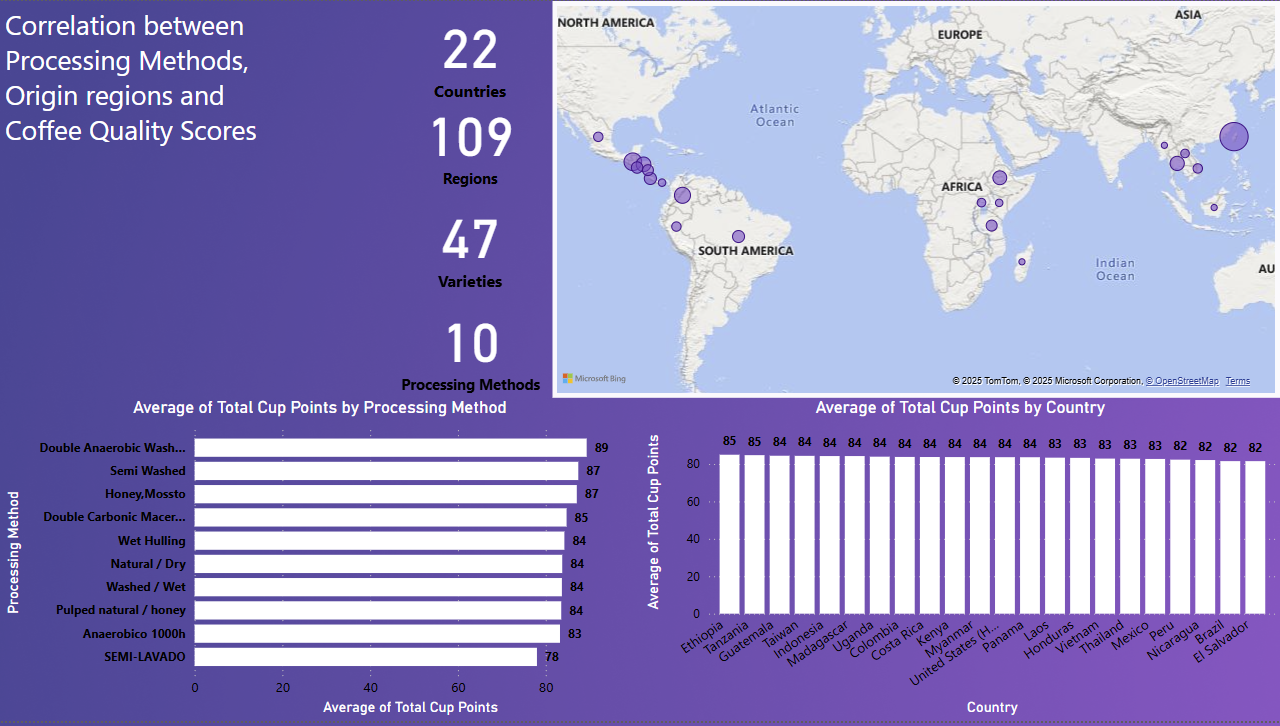

Layout of this report page (visuals, bound fields, positions):
{"tool":"powerbi","page":{"name":"Page 2","canvas":[1280,720],"ordinal":2},"visuals":[{"type":"clusteredColumnChart","fields":{"Category":["Coffee.Country"],"Y":["Avg(Coffee.Total Cup Points)"]},"box":[639.4,396.8,640.6,323.4],"z":0},{"type":"clusteredBarChart","fields":{"Category":["Coffee.Processing Method"],"Y":["Avg(Coffee.Total Cup Points)"]},"box":[0,396.8,639.4,323.4],"z":1000},{"type":"map","fields":{"Category":["Coffee.Country"],"Size":["Sum(Coffee.Total Cup Points)"]},"box":[552.3,0,727.7,396.8],"z":2000},{"type":"textbox","box":[0,0,286,166.7],"z":3000},{"type":"card","fields":{"Values":["Count(Coffee.Country)"]},"box":[390.6,0,160.5,103.2],"z":4000},{"type":"card","fields":{"Values":["Count(Coffee.Processing Method)"]},"box":[390.6,293.6,161.7,103.2],"z":5000},{"type":"card","fields":{"Values":["Count(Coffee.Region)"]},"box":[390.6,87.1,160.5,103.2],"z":6000},{"type":"card","fields":{"Values":["Count(Coffee.Variety)"]},"box":[390.6,190.3,160.5,103.2],"z":7000}]}

Visuals, with their boxes in screenshot pixels (x1, y1, x2, y2), scaled from the page's 1280x720 canvas onto the 1280x726 screenshot:
clusteredColumnChart - Coffee.Country x Avg(Coffee.Total Cup Points): 639/400/1279/725
clusteredBarChart - Coffee.Processing Method x Avg(Coffee.Total Cup Points): 0/400/639/725
map - Coffee.Country x Sum(Coffee.Total Cup Points): 552/0/1279/400
textbox: 0/0/286/168
card - Count(Coffee.Country): 391/0/551/104
card - Count(Coffee.Processing Method): 391/296/552/400
card - Count(Coffee.Region): 391/88/551/192
card - Count(Coffee.Variety): 391/192/551/296
